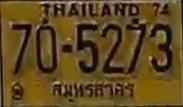0: (35, 23, 56, 73)
2: (102, 24, 121, 72)
3: (150, 23, 172, 71)
5: (76, 23, 98, 72)
7: (125, 22, 146, 73), (11, 23, 31, 74)
SKN: (50, 78, 138, 104)
